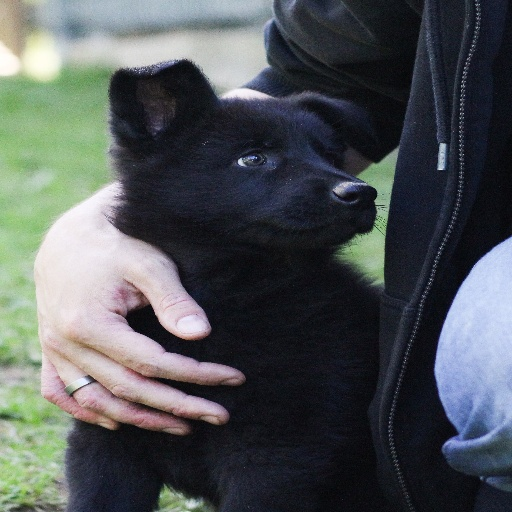hand: (25, 202, 279, 451)
